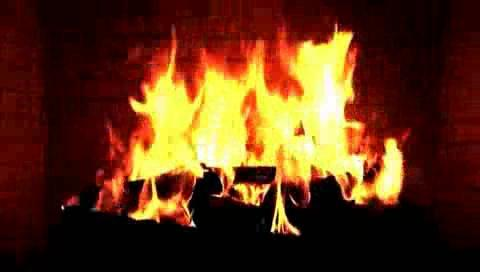fire: (121, 23, 377, 236)
